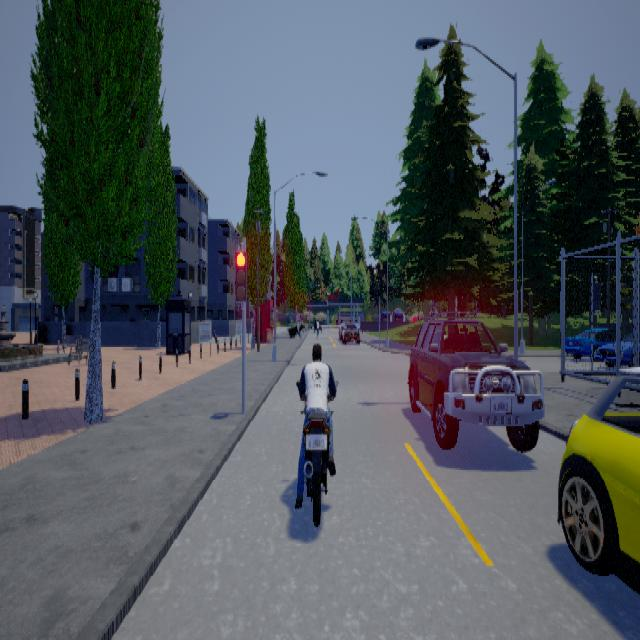red_light: (237, 241, 248, 310)
vehicle: (558, 333, 640, 593), (408, 310, 546, 451), (294, 342, 341, 529)
